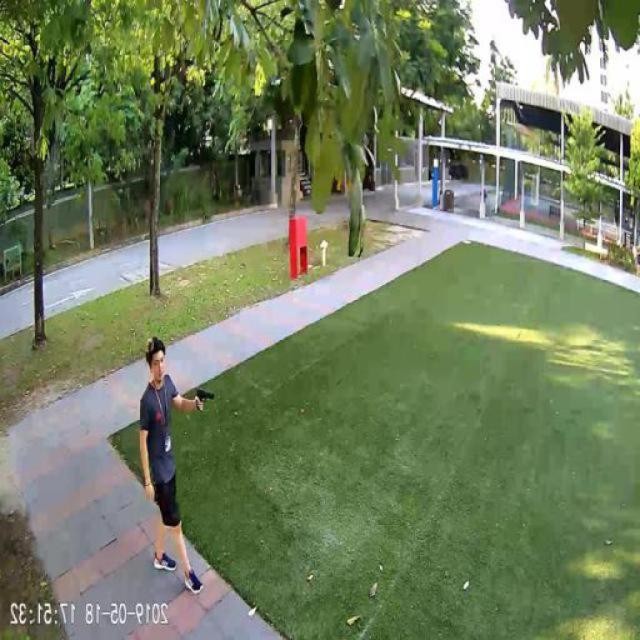pistol: (198, 386, 216, 410)
